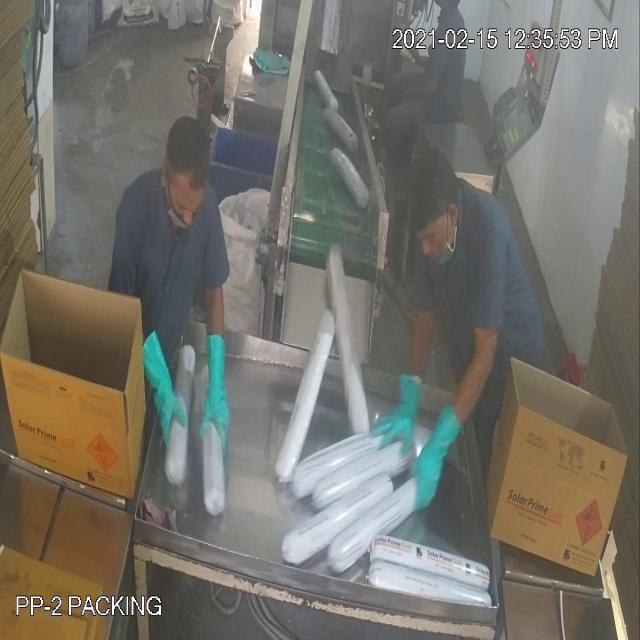gloves: (194, 319, 248, 480), (402, 395, 468, 520), (134, 316, 194, 448), (367, 342, 423, 459)
